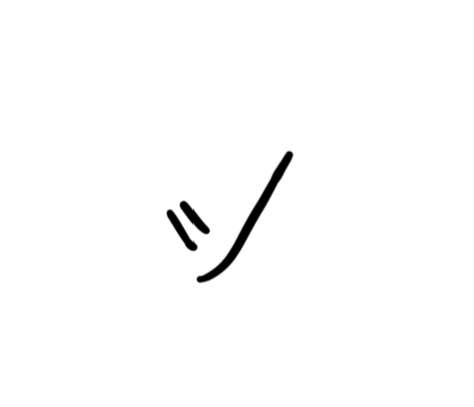shi: (141, 147, 298, 291)
